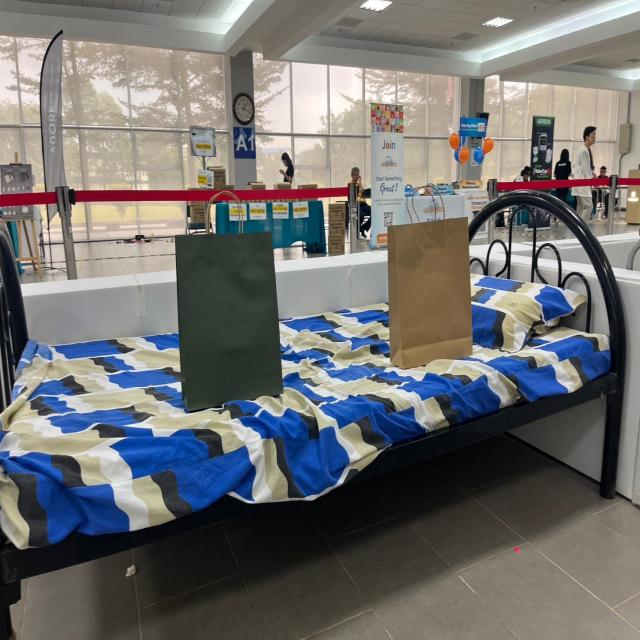bag: (175, 195, 279, 400), (388, 187, 467, 365)
